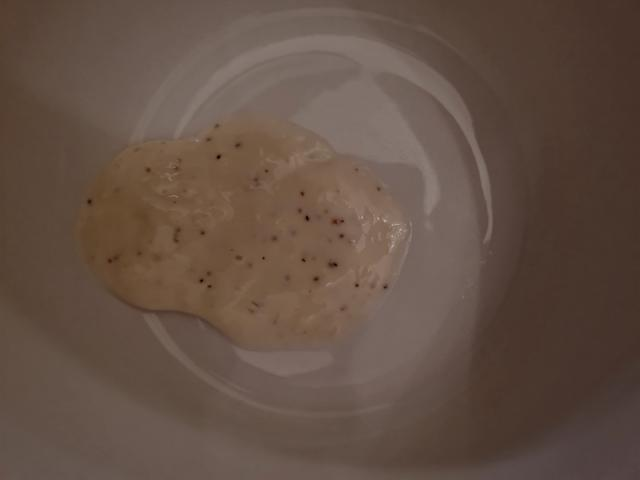kichen waste: (78, 114, 407, 348)
